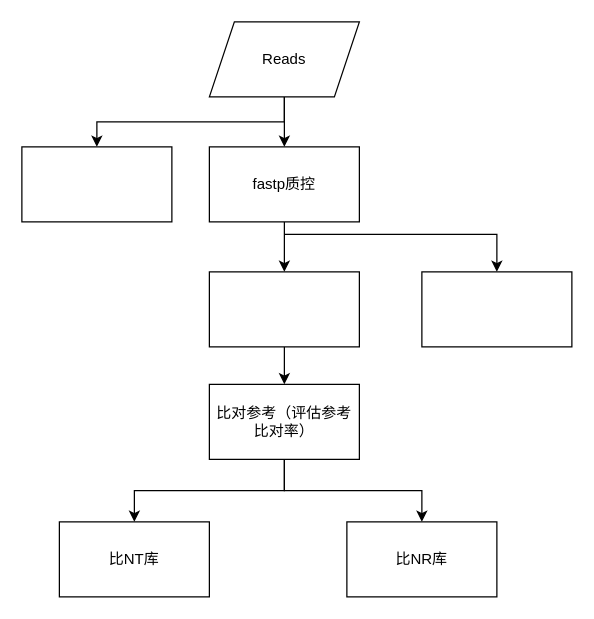
Some shapes in this 594 by 619 pixel diagram are drawn without their labels. The centre of each missing label's shape, as x and y in pixels:
"FASTQC" belongs at point (96, 184).
"去rRNA（评估rRNA比例）" belongs at point (283, 309).
"频谱分析" belongs at point (496, 309).
